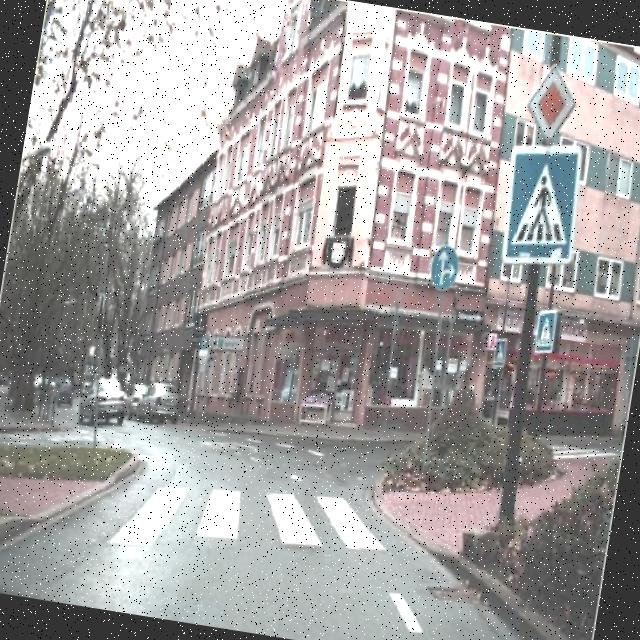Przejscie dla pieszych: (496, 138, 586, 275), (534, 307, 566, 358), (490, 336, 512, 374)
